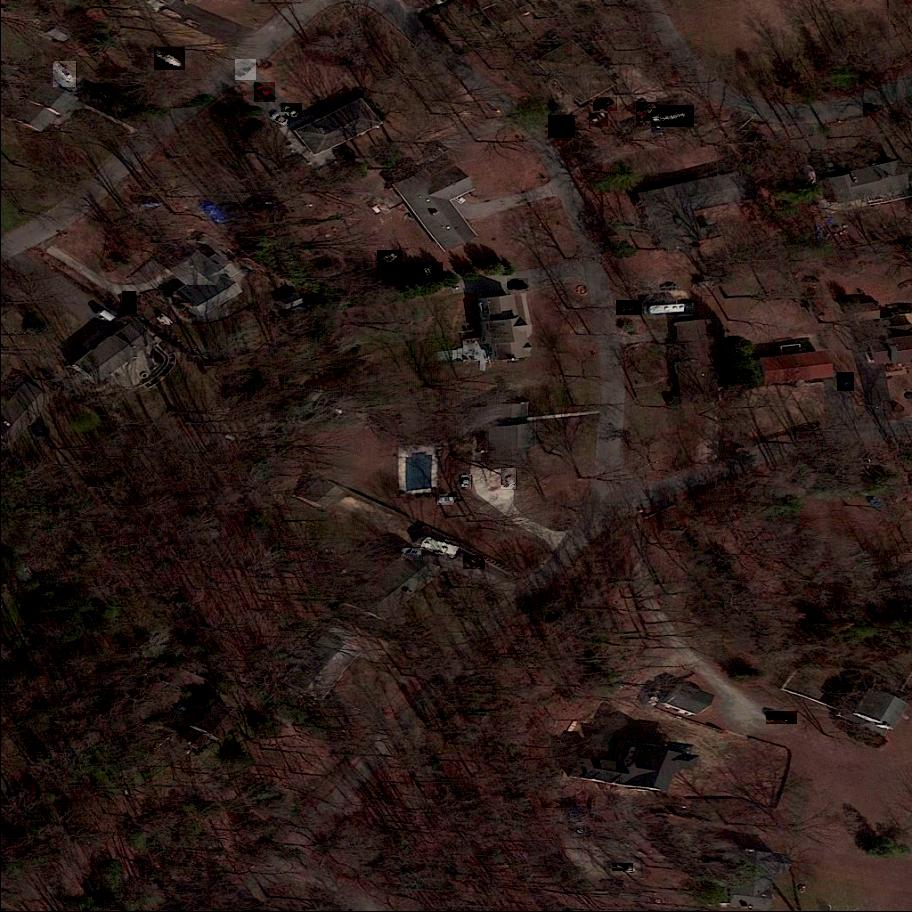ship: (652, 104, 694, 127), (404, 263, 445, 283), (154, 47, 186, 72), (53, 61, 78, 87), (378, 250, 404, 272)
small-vehicle: (422, 539, 461, 557), (548, 114, 575, 140), (235, 59, 258, 81), (636, 102, 659, 123), (90, 82, 115, 101), (255, 80, 275, 103), (282, 102, 303, 122), (767, 711, 797, 725), (616, 300, 643, 315), (593, 97, 618, 112), (501, 469, 518, 491), (122, 291, 138, 314), (463, 555, 485, 571), (838, 373, 855, 392), (270, 111, 290, 127), (589, 113, 609, 129), (508, 278, 529, 291), (402, 548, 423, 561), (863, 103, 883, 116), (612, 864, 633, 872), (462, 474, 472, 489), (438, 497, 454, 506)
